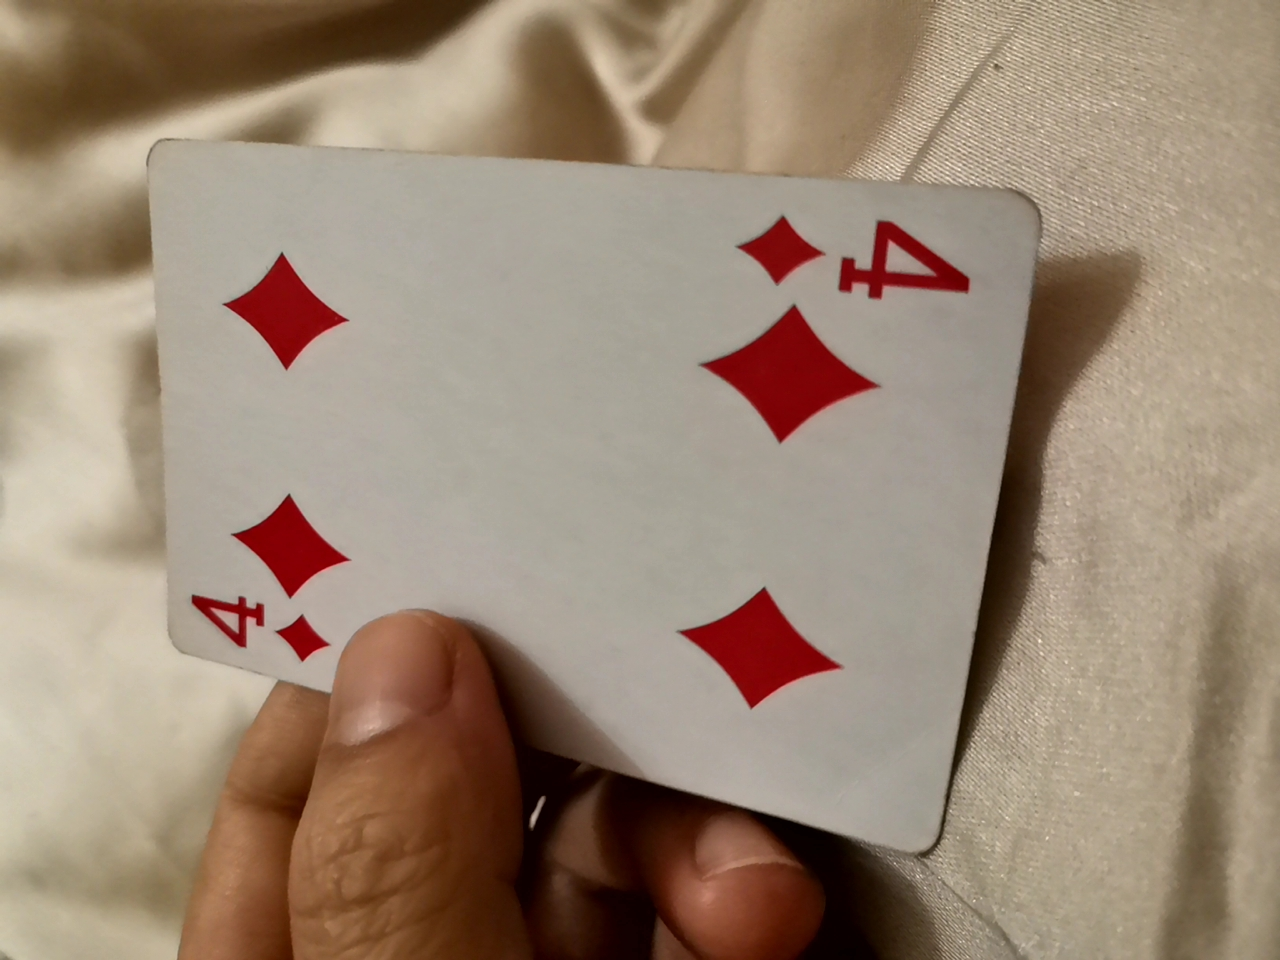fk 4: (116, 140, 1046, 838)
